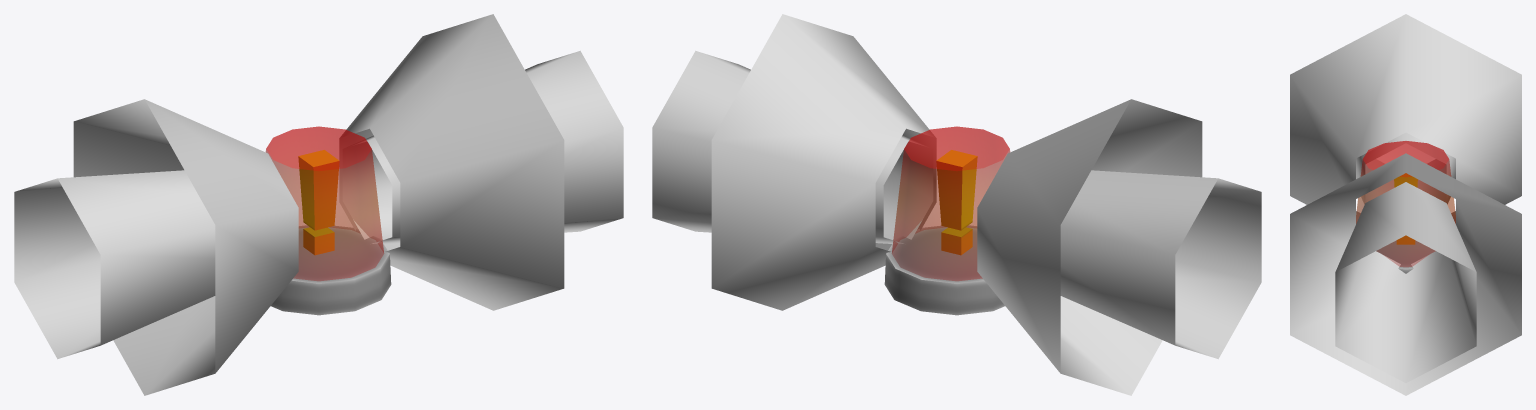
The model's file is RedAlert.FBX.
3 views of the same model, side by side, from view 1: azimuth 30°, elevation 25°; view 2: azimuth 150°, elevation 25°; view 3: azimuth 270°, elevation 25° (orthographic). The views are drawn at different scales.
Parts seen in each view (by area): view 1: Addlight, light, base, sign; view 2: Addlight, light, base, sign; view 3: Addlight, light, base, sign.
Boxes of the visible parts, x1=… form: Addlight: x1=14, y1=14, x2=623, y2=395; light: x1=265, y1=126, x2=383, y2=280; base: x1=271, y1=225, x2=391, y2=315; sign: x1=298, y1=150, x2=339, y2=255; Addlight: x1=652, y1=14, x2=1261, y2=395; light: x1=892, y1=126, x2=1010, y2=280; base: x1=884, y1=225, x2=1004, y2=315; sign: x1=936, y1=150, x2=977, y2=255; Addlight: x1=1290, y1=14, x2=1521, y2=395; light: x1=1356, y1=141, x2=1455, y2=266; base: x1=1376, y1=240, x2=1435, y2=273; sign: x1=1394, y1=173, x2=1417, y2=244.
Bounding box in the file's own units: 249 × 135 × 117.
